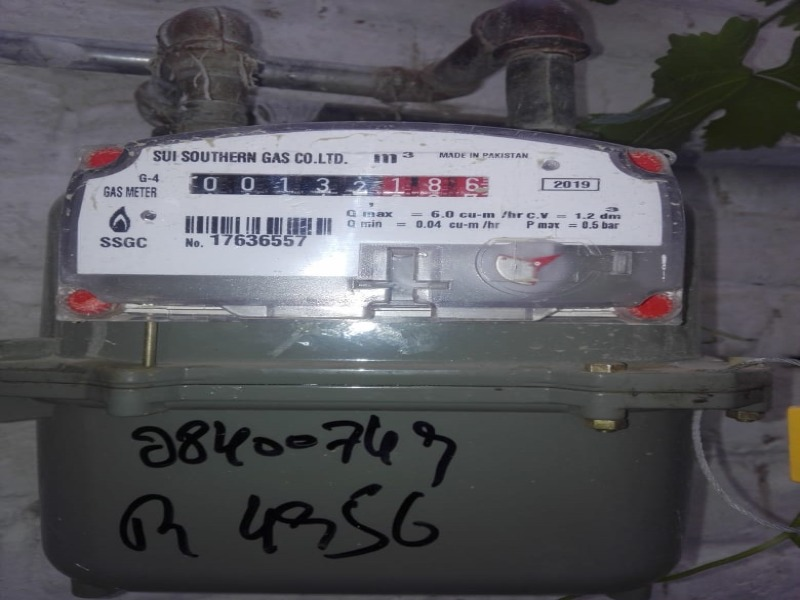ssgc: (184, 168, 493, 203)
